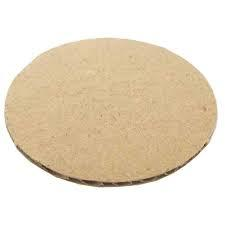Cardboard: (7, 10, 225, 223)
